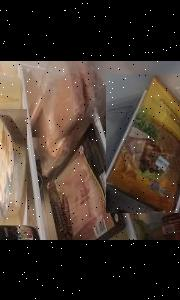Queso: (0, 108, 27, 224)
Tortillas de trigo: (106, 73, 180, 212)
